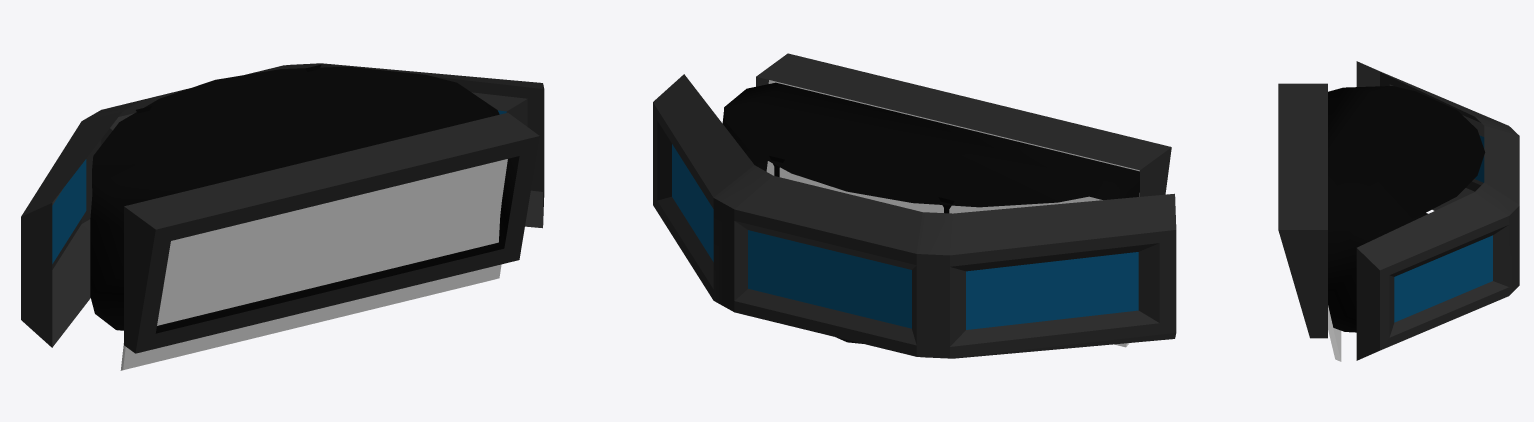
Rendered from TankDriverVisor3x1.fbx.
3 views of the same model, side by side, from view 1: azimuth 30°, elevation 25°; view 2: azimuth 150°, elevation 25°; view 3: azimuth 270°, elevation 25° (orthographic). The views are drawn at different scales.
Parts seen in each view (by area): view 1: Cube.003, Cube.001; view 2: Cube.003, Cube.001; view 3: Cube.003, Cube.001.
Boxes of the visible parts, x1,y1,x2,y2 form: Cube.003: (21,63,544,353); Cube.001: (120,159,507,370); Cube.003: (653,53,1176,358); Cube.001: (766,80,1139,347); Cube.003: (1278,61,1519,360); Cube.001: (1328,305,1341,361).
Size of the model in its own units: 3 by 1 by 1.33.
